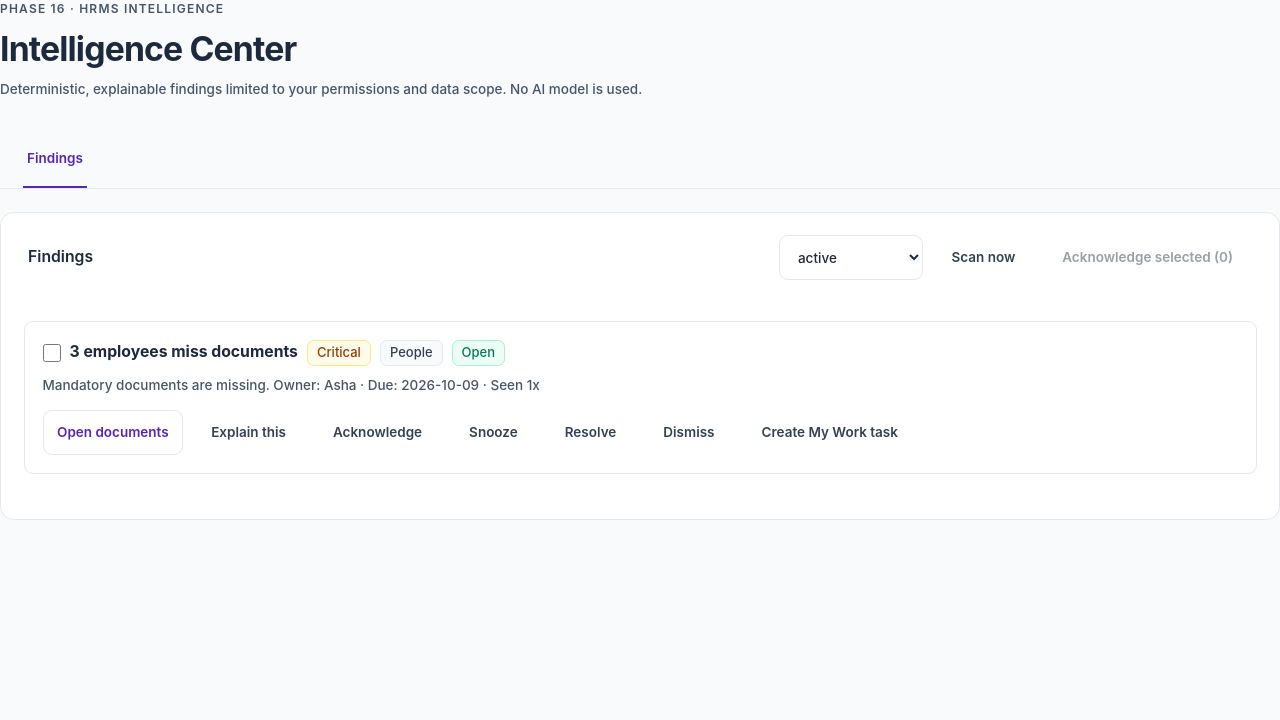
shows the explanation with rule, threshold, scope and withheld records
This screenshot has width=1280, height=720.
What coordinates should you click on to do the following:
click the button "Explain this"
I would click on:
 (249, 433)
Its box is [192,410,305,455].
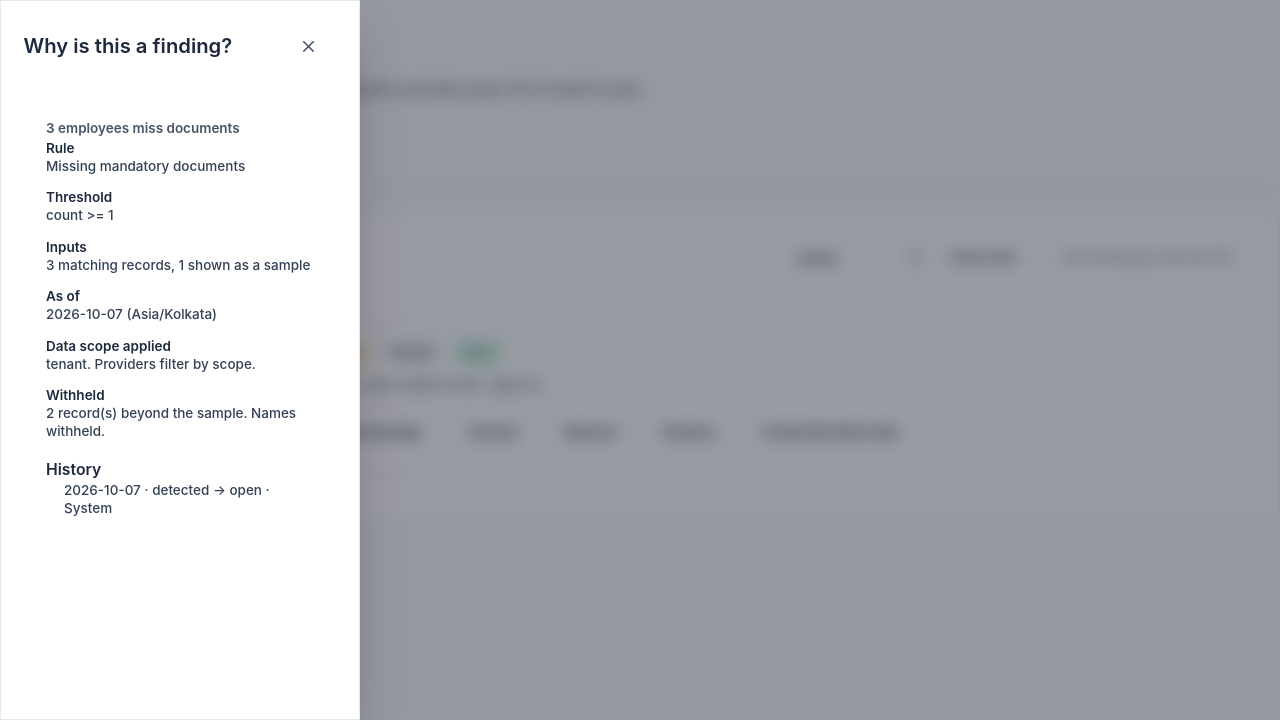
Expected: the text "Missing mandatory documents" is shown, [46,158,245,174]
Expected: the text "2 record(s) beyond the sample. Names withheld." is shown, [46,405,314,441]
Expected: the text "tenant. Providers filter by scope." is shown, [46,356,256,372]
